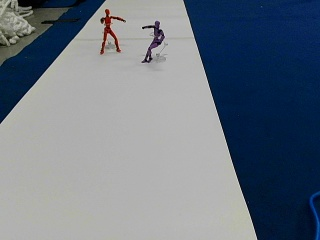pedestrian: (101, 8, 127, 55), (141, 19, 165, 63)
